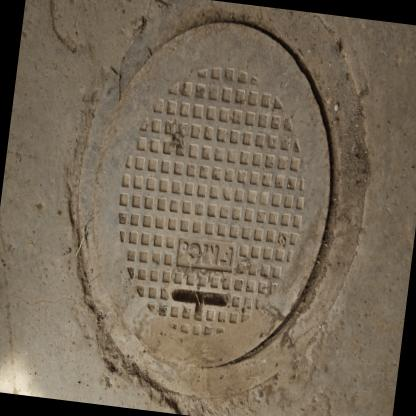manholes: (11, 0, 407, 416)
